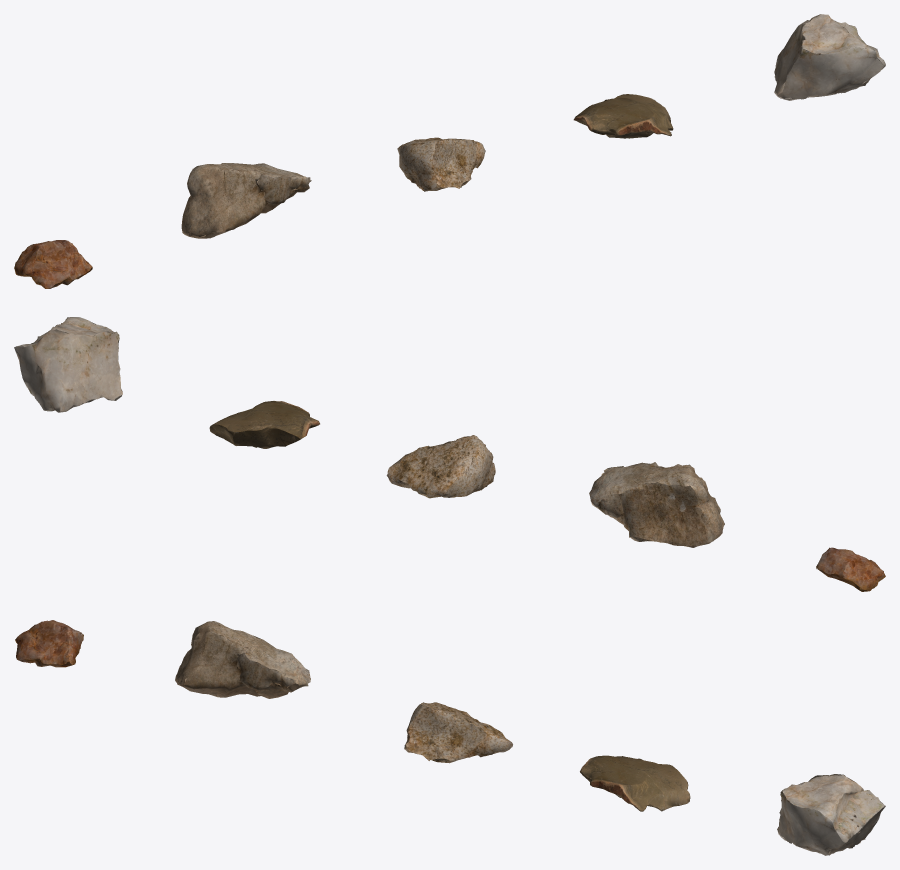
File: namaqualand_stones_01.glb
3 renders of one model, top to bottom at view 1: azimuth 30°, elevation 25°; view 2: azimuth 150°, elevation 25°; view 3: azimuth 330°, elevation 25°, orthographic.
Parts seen in each view (by area): view 1: namaqualand_stones_01_e, namaqualand_stones_01_b, namaqualand_stones_01_c, namaqualand_stones_01_d, namaqualand_stones_01_a; view 2: namaqualand_stones_01_b, namaqualand_stones_01_e, namaqualand_stones_01_c, namaqualand_stones_01_d, namaqualand_stones_01_a; view 3: namaqualand_stones_01_b, namaqualand_stones_01_e, namaqualand_stones_01_c, namaqualand_stones_01_d, namaqualand_stones_01_a.
Part boxes in pixels (x1,y1,x2,y2): namaqualand_stones_01_e: (774,14,885,100); namaqualand_stones_01_b: (181,163,311,238); namaqualand_stones_01_c: (397,137,485,191); namaqualand_stones_01_d: (573,94,673,138); namaqualand_stones_01_a: (14,240,92,288); namaqualand_stones_01_b: (589,462,724,547); namaqualand_stones_01_e: (14,317,122,412); namaqualand_stones_01_c: (386,435,495,498); namaqualand_stones_01_d: (209,401,319,448); namaqualand_stones_01_a: (816,547,885,591); namaqualand_stones_01_b: (175,621,310,698); namaqualand_stones_01_e: (777,774,885,855); namaqualand_stones_01_c: (404,702,512,763); namaqualand_stones_01_d: (580,755,690,811); namaqualand_stones_01_a: (15,620,83,667).
Size of the model in its own units: 1.02 by 0.0846 by 0.1126.
1 material, 1 textured.
